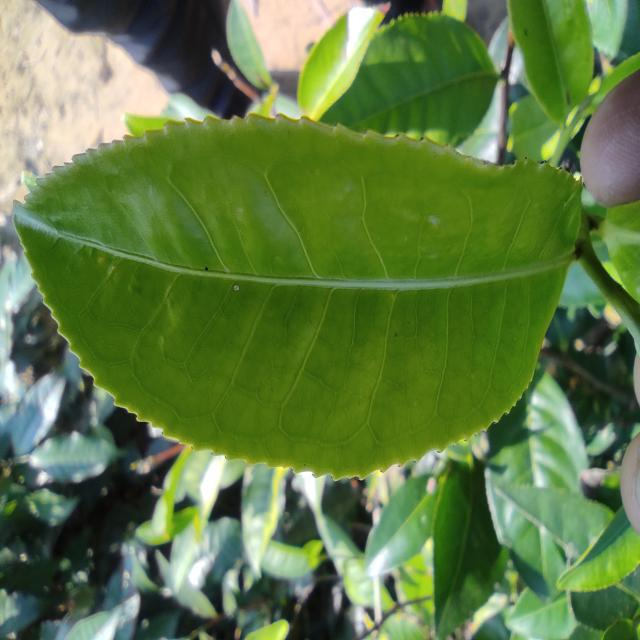Category C(4-7 days): (9, 85, 600, 493)
